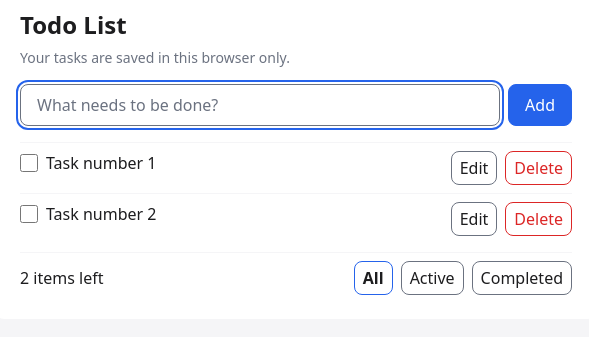
Test case: App: edit a task › saves with the Save button
Click the button with test id "edit-button" in the row of "Task number 1" at point(474, 168), box [451, 151, 497, 185]
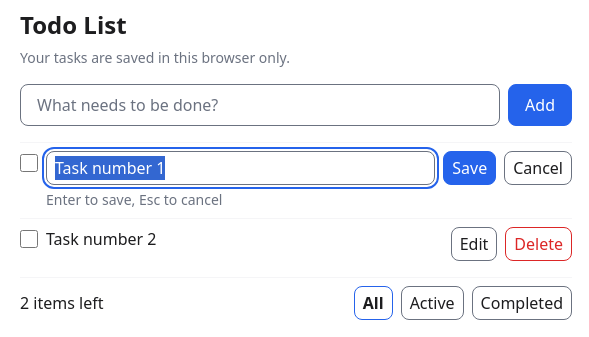
Replace the text in the field with test id "task-edit-input" with "By button" at point(241, 168), box [46, 151, 435, 185]
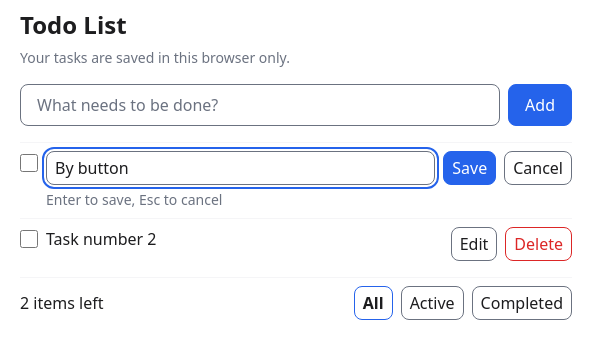
Click the button with test id "task-edit-save" at point(470, 168), box [443, 151, 496, 185]
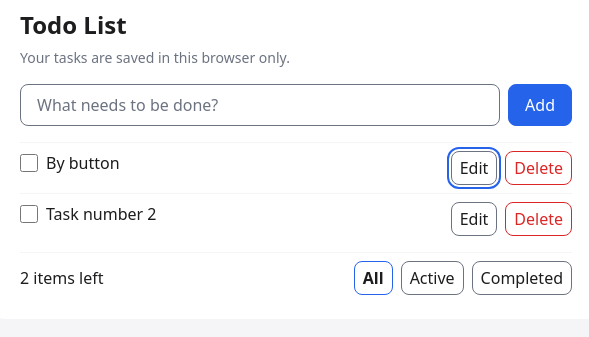
Result: the text "By button" is shown at [46, 152, 120, 174]
